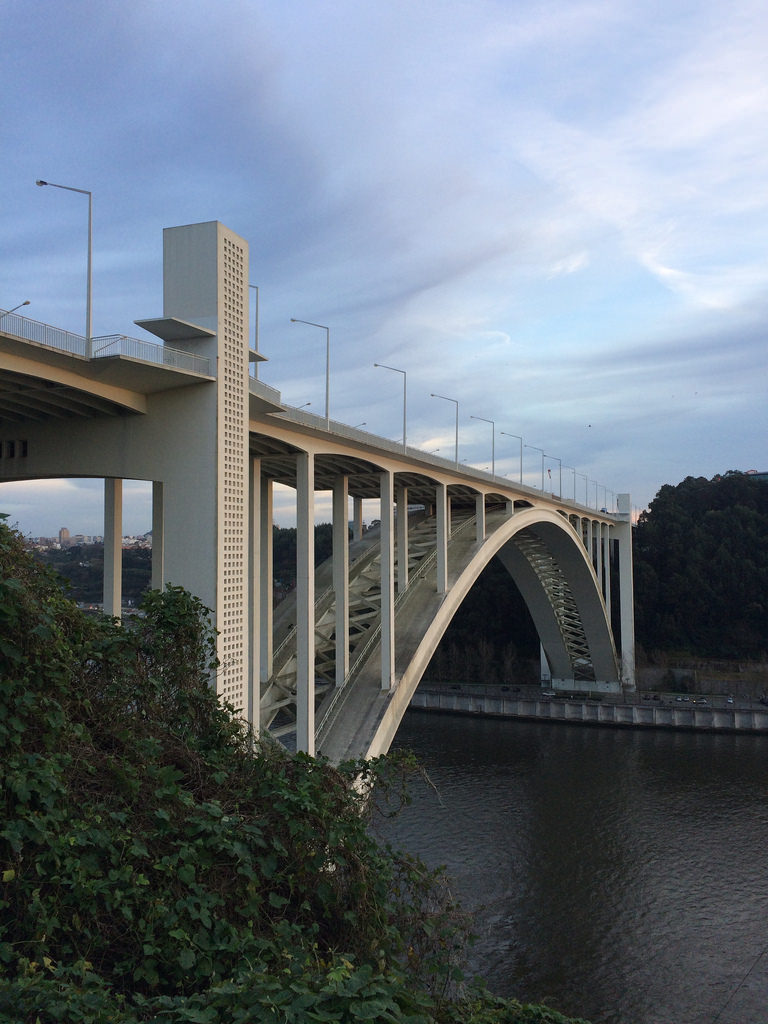arrabida: (0, 217, 639, 895)
